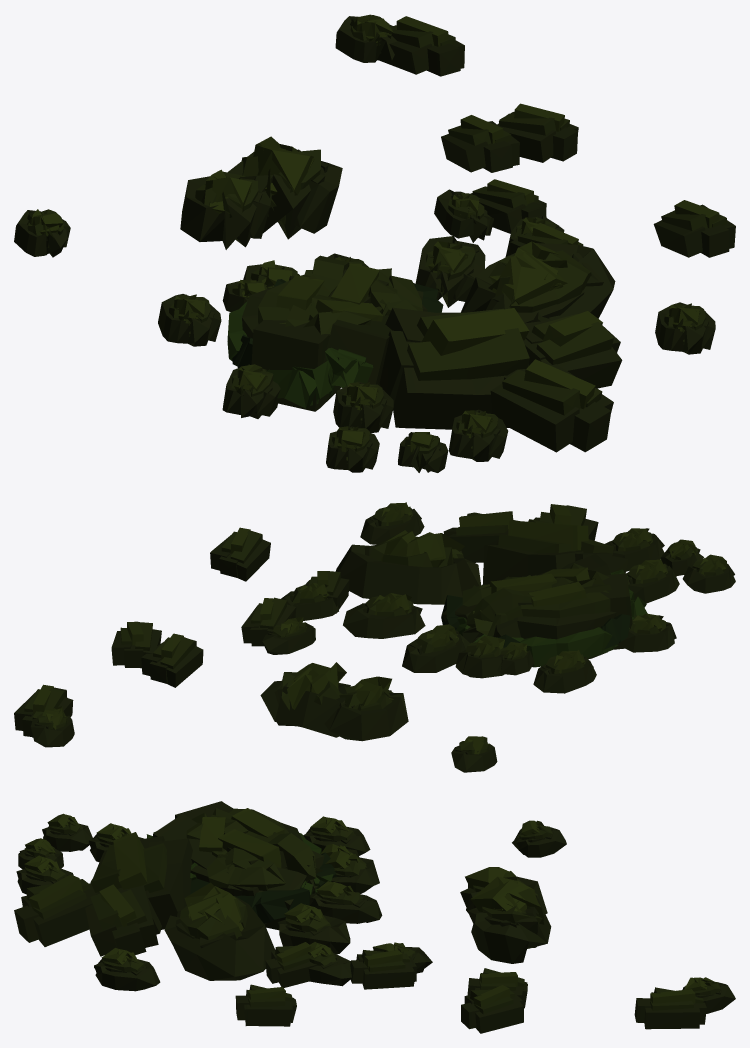
File: SubRocks3.fbx
The picture shows the model from 3 angles, top to bottom: view 1: azimuth 30°, elevation 25°; view 2: azimuth 150°, elevation 25°; view 3: azimuth 270°, elevation 25°; orthographic projection. The views are drawn at different scales.
Visible parts, largest first — view 1: SubRocks3; view 2: SubRocks3; view 3: SubRocks3.
Part boxes in pixels (left/top/right/bottom): SubRocks3: left=14, top=14, right=735, bottom=472; SubRocks3: left=14, top=502, right=735, bottom=772; SubRocks3: left=14, top=801, right=735, bottom=1033.
Size of the model in its own units: 6.18 by 1.17 by 9.33.
